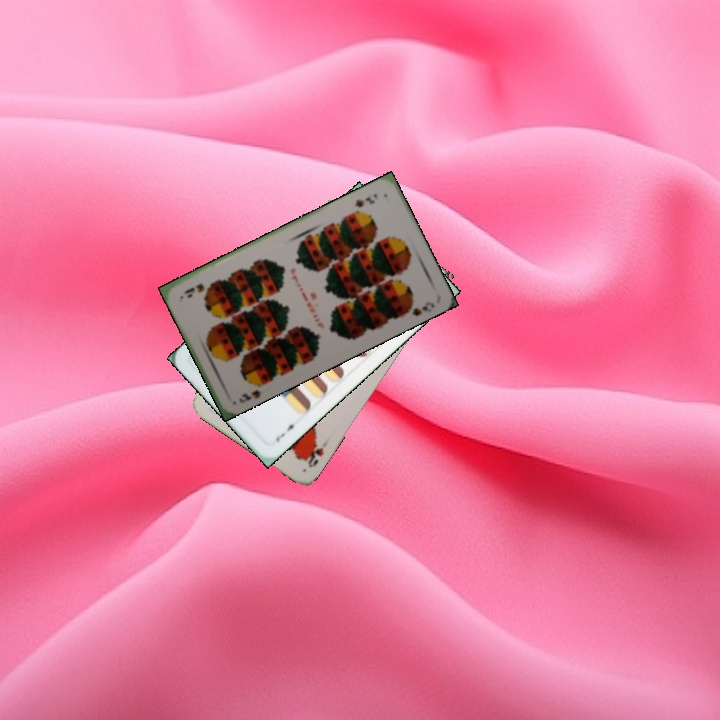E7: (272, 418, 301, 444)
HO: (300, 437, 326, 470)
S9: (235, 380, 265, 406), (351, 189, 380, 210)
